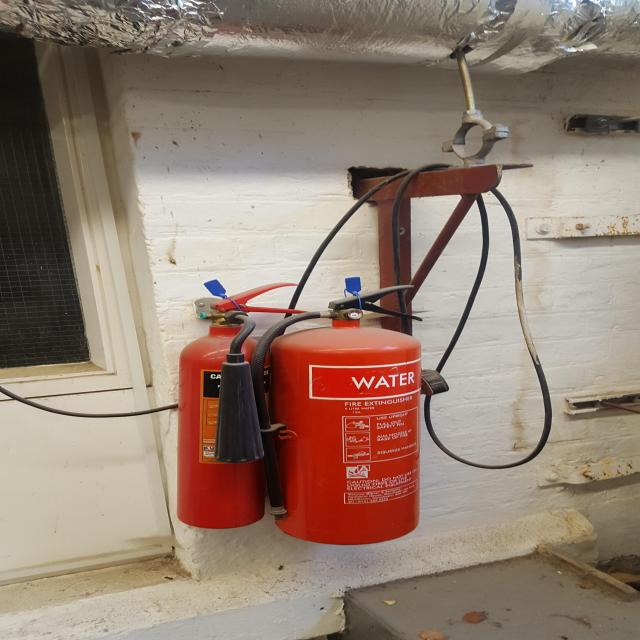fire_extinguisher: (246, 281, 434, 547), (164, 282, 316, 532)
